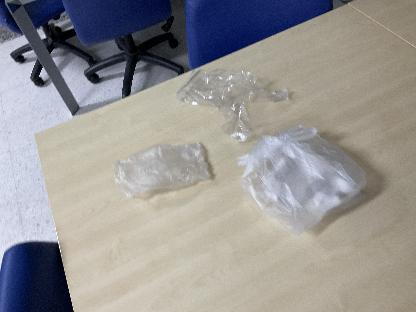Others: (237, 126, 370, 236), (171, 58, 306, 142), (111, 137, 217, 205)
